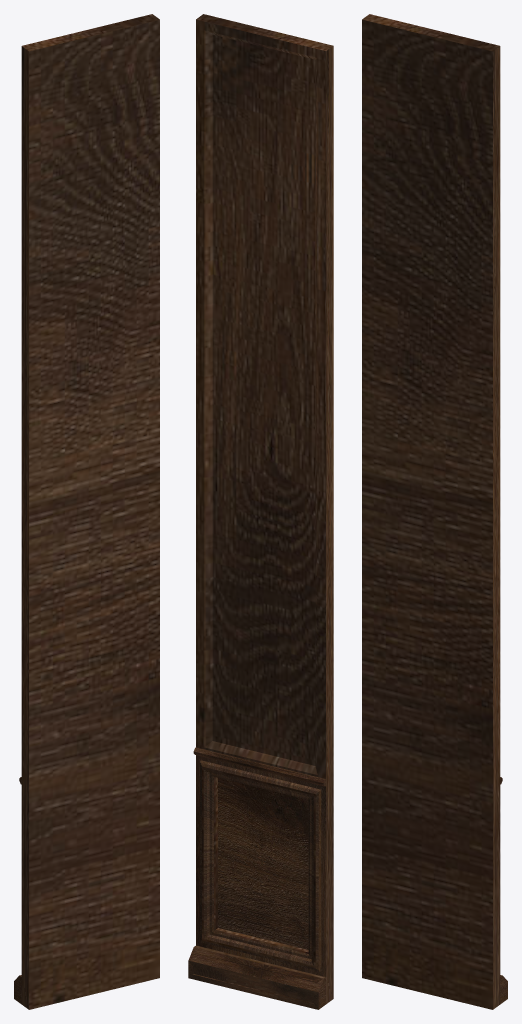
File: Mur_V2.fbx
3 renders of one model, left to right at view 1: azimuth 30°, elevation 25°; view 2: azimuth 150°, elevation 25°; view 3: azimuth 330°, elevation 25°, orthographic.
Parts seen in each view (by area): view 1: Cube; view 2: Cube; view 3: Cube.
Part boxes in pixels (<box>): Cube: <box>14,14,159,1009</box>; Cube: <box>188,14,333,1009</box>; Cube: <box>362,14,507,1009</box>.
Size of the model in its own units: 100 by 700 by 20.
